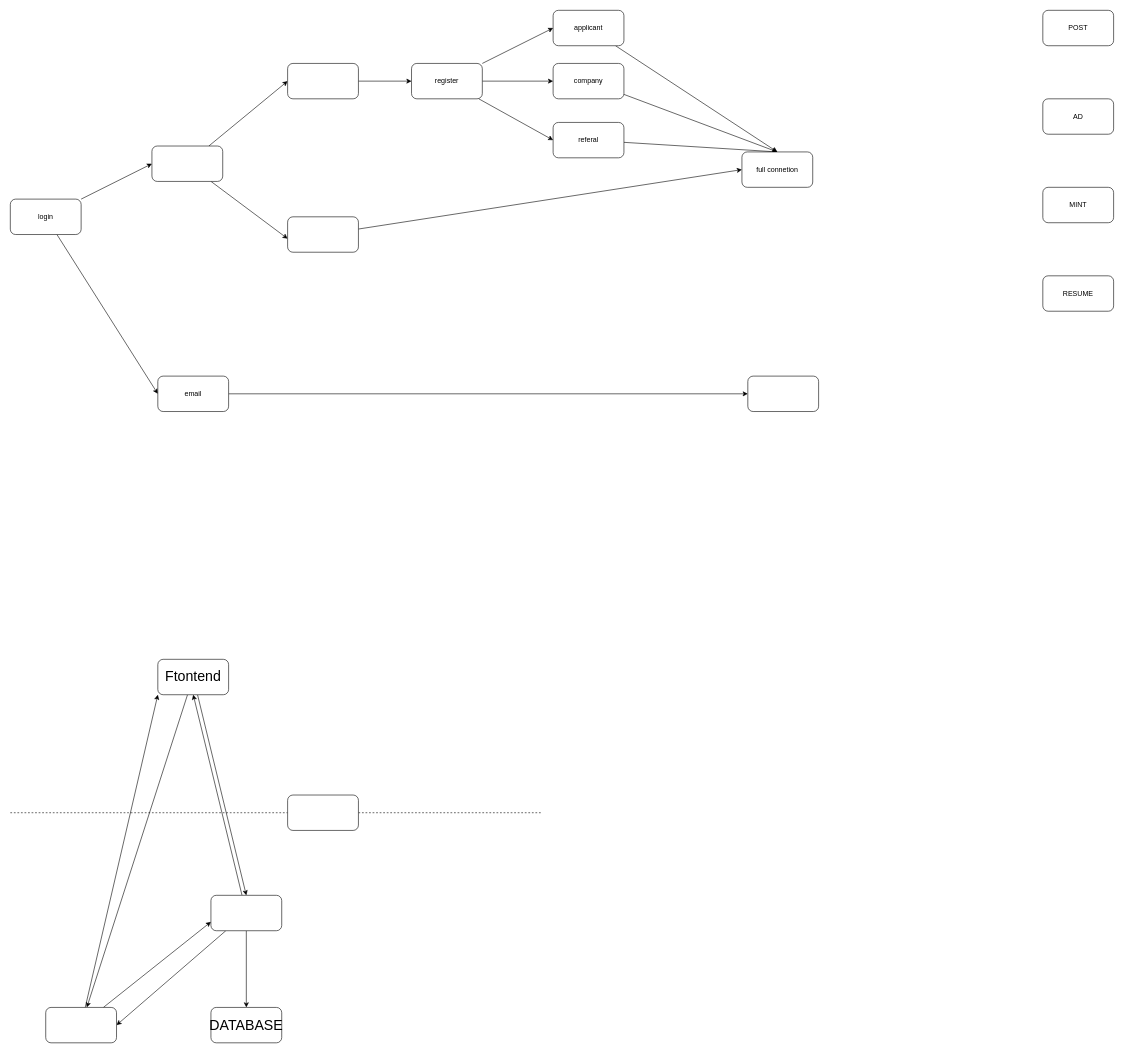
Some shapes in this 1124 by 1053 pixel diagram are drawn without their labels. The centre of each missing label's shape, as x and y in pixels:
"API" belongs at (x=322, y=812).
"connet to email" belongs at (x=322, y=234).
"django" belongs at (x=246, y=913).
"not connet to email" belongs at (x=322, y=81).
"restrict connetion" belongs at (x=783, y=394).
"Solidity" belongs at (x=81, y=1025).
"wallet" belongs at (x=187, y=163).
